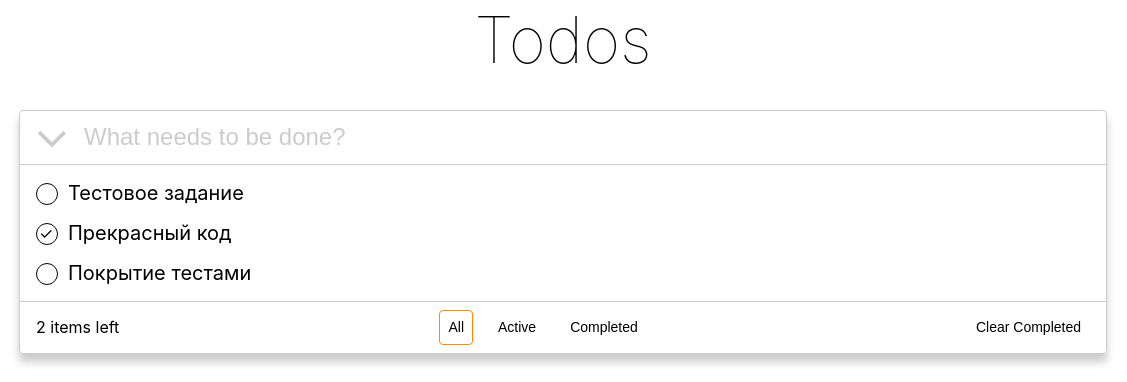
TodoList Component › Filters todos by "Completed"
Step 1. Click the button "Completed" → (604, 327), box [561,310,647,345]
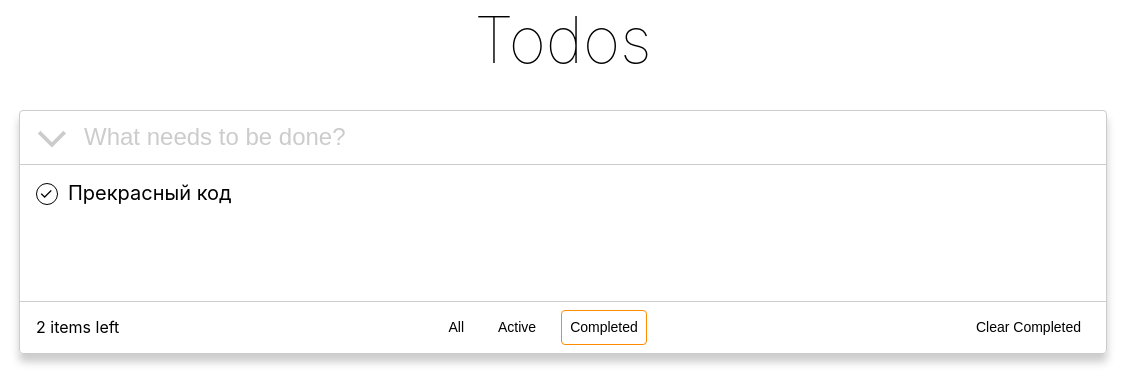
Expected: the list item "Прекрасный код" is shown, [68,181,231,205]
Result: the list item "Тестовое задание" is gone
